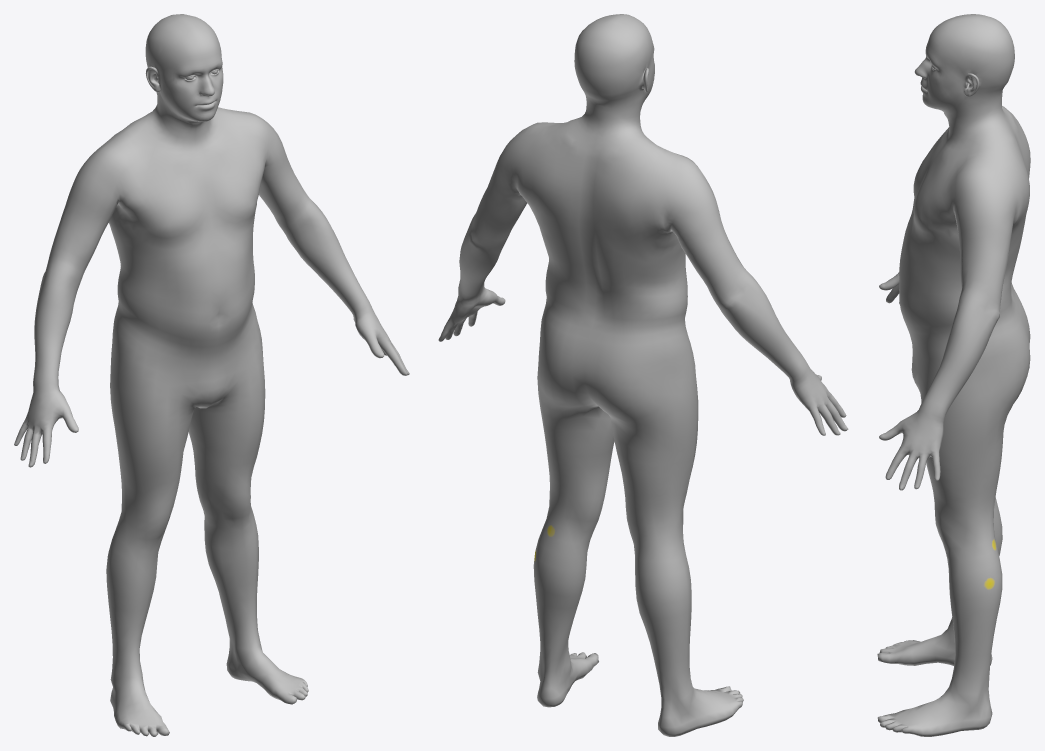
File: 1135025-bent-red+yellow.gltf
3 renders of one model, left to right at view 1: azimuth 30°, elevation 25°; view 2: azimuth 150°, elevation 25°; view 3: azimuth 270°, elevation 25°, orthographic. The views are drawn at different scales.
Visible parts, largest first — view 1: Male 68in 180lbs-A-pose; view 2: Male 68in 180lbs-A-pose; view 3: Male 68in 180lbs-A-pose.
Part boxes in pixels (left/top/right/bottom): Male 68in 180lbs-A-pose: left=14, top=14, right=409, bottom=736; Male 68in 180lbs-A-pose: left=438, top=14, right=848, bottom=736; Male 68in 180lbs-A-pose: left=877, top=14, right=1030, bottom=736.
Size of the model in its own units: 3.06 by 5.17 by 1.05.
1 material, 1 textured.
